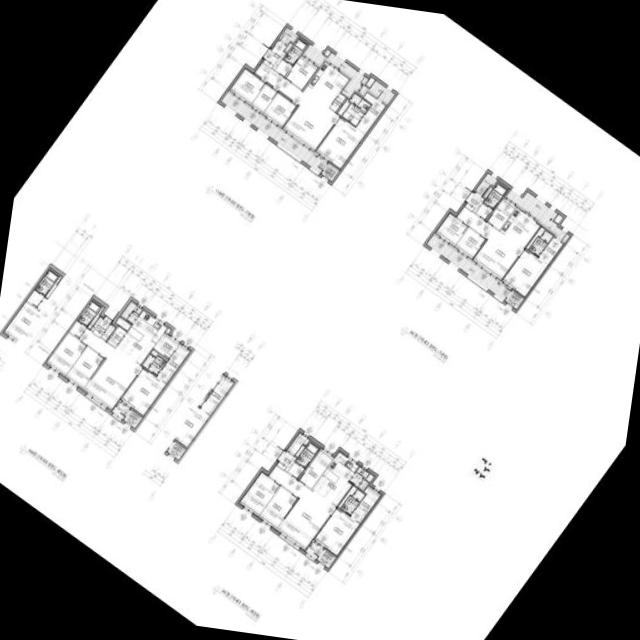background: (0, 0, 640, 640)
space_balconi: (220, 92, 327, 173), (426, 235, 511, 301), (302, 44, 368, 99), (506, 189, 569, 242), (368, 80, 394, 104), (120, 301, 142, 324), (476, 173, 497, 196), (349, 467, 368, 491), (279, 27, 298, 44), (305, 542, 323, 559), (111, 402, 129, 419)
space_bedroom: (120, 366, 173, 415), (316, 117, 365, 169), (502, 249, 547, 296), (314, 508, 359, 555), (239, 472, 279, 516), (46, 332, 86, 376), (65, 346, 103, 389), (259, 486, 297, 528), (229, 68, 265, 104), (262, 93, 296, 127), (435, 213, 468, 246), (285, 56, 317, 89), (454, 227, 485, 259)
space_dressroom: (355, 92, 386, 135), (537, 237, 562, 265), (165, 344, 189, 372), (358, 486, 380, 512)
space_front: (262, 40, 286, 70), (464, 192, 484, 212), (276, 451, 296, 471), (90, 317, 109, 338)
space_kitchen: (116, 310, 166, 364), (311, 452, 358, 506), (303, 62, 349, 109), (499, 207, 539, 249)
space_living_room: (254, 63, 339, 151), (268, 465, 335, 549), (79, 328, 142, 410), (456, 206, 522, 280)
space_other: (298, 449, 333, 489), (486, 198, 515, 230), (250, 84, 277, 113), (153, 333, 179, 359), (287, 433, 309, 455), (107, 326, 126, 347), (526, 227, 544, 249), (338, 486, 356, 508), (87, 307, 103, 329), (274, 59, 291, 77), (329, 93, 345, 112), (475, 203, 492, 220), (68, 321, 85, 338), (350, 506, 367, 523), (287, 462, 303, 479), (101, 324, 115, 340), (115, 317, 130, 330), (337, 99, 349, 115), (150, 350, 167, 361), (295, 445, 304, 457), (483, 187, 492, 198), (553, 214, 562, 224), (365, 77, 374, 87), (284, 43, 292, 52), (365, 474, 373, 482), (323, 49, 330, 56), (165, 328, 170, 333)
space_outdoor_room: (504, 290, 523, 309), (123, 409, 142, 428), (316, 549, 335, 568), (320, 163, 339, 182)
space_toilet: (341, 93, 370, 126), (283, 38, 307, 65), (340, 489, 364, 515), (528, 231, 552, 256), (295, 442, 318, 468), (77, 301, 100, 326), (484, 183, 506, 209), (142, 354, 165, 375)
